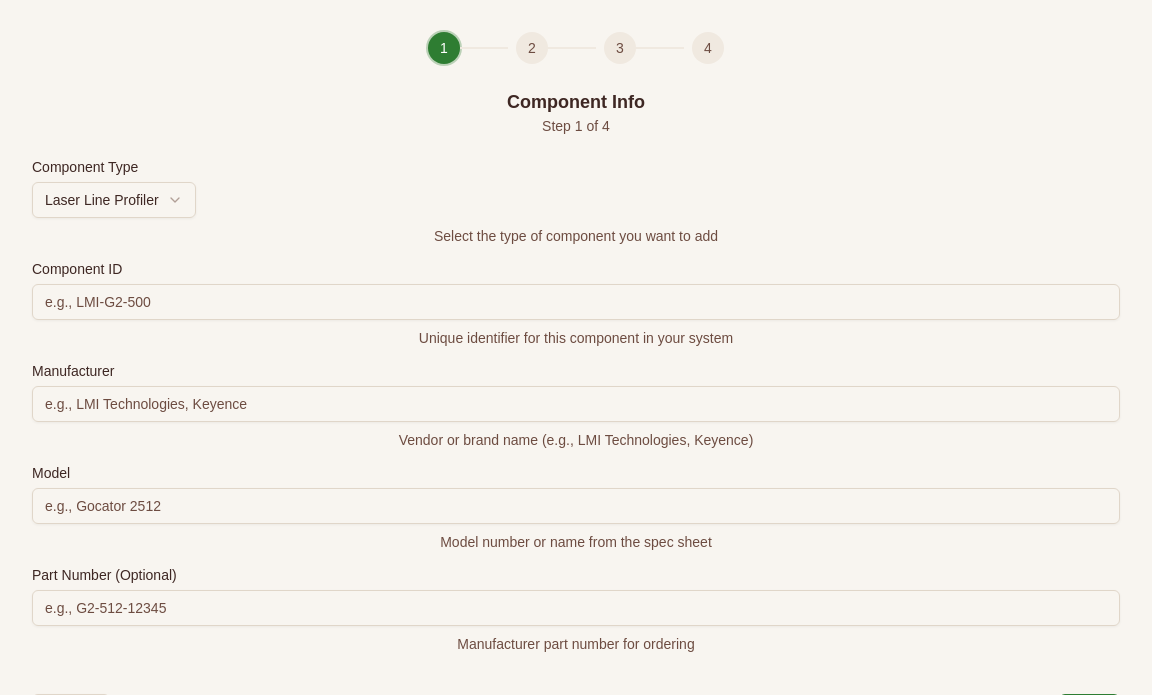
Scenario: ComponentEntryWizard › component type selector › shows 5 component type options
# Open the select dropdown
Step 1. Click the dropdown named "component type" → coordinates (114, 200), box [32, 182, 196, 218]
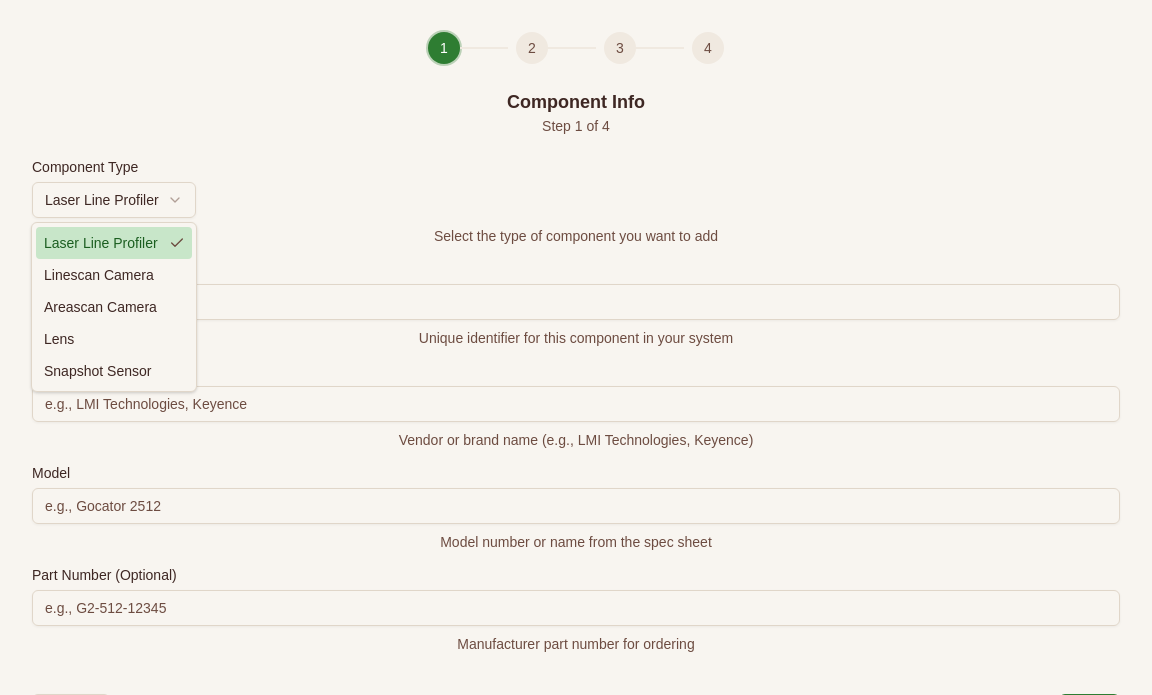
Check: the option "Laser Line Profiler" is shown, box [36, 227, 192, 259]
Check: the option "Linescan Camera" is shown, box [44, 267, 154, 283]
Check: the option "Areascan Camera" is shown, box [44, 299, 157, 315]
